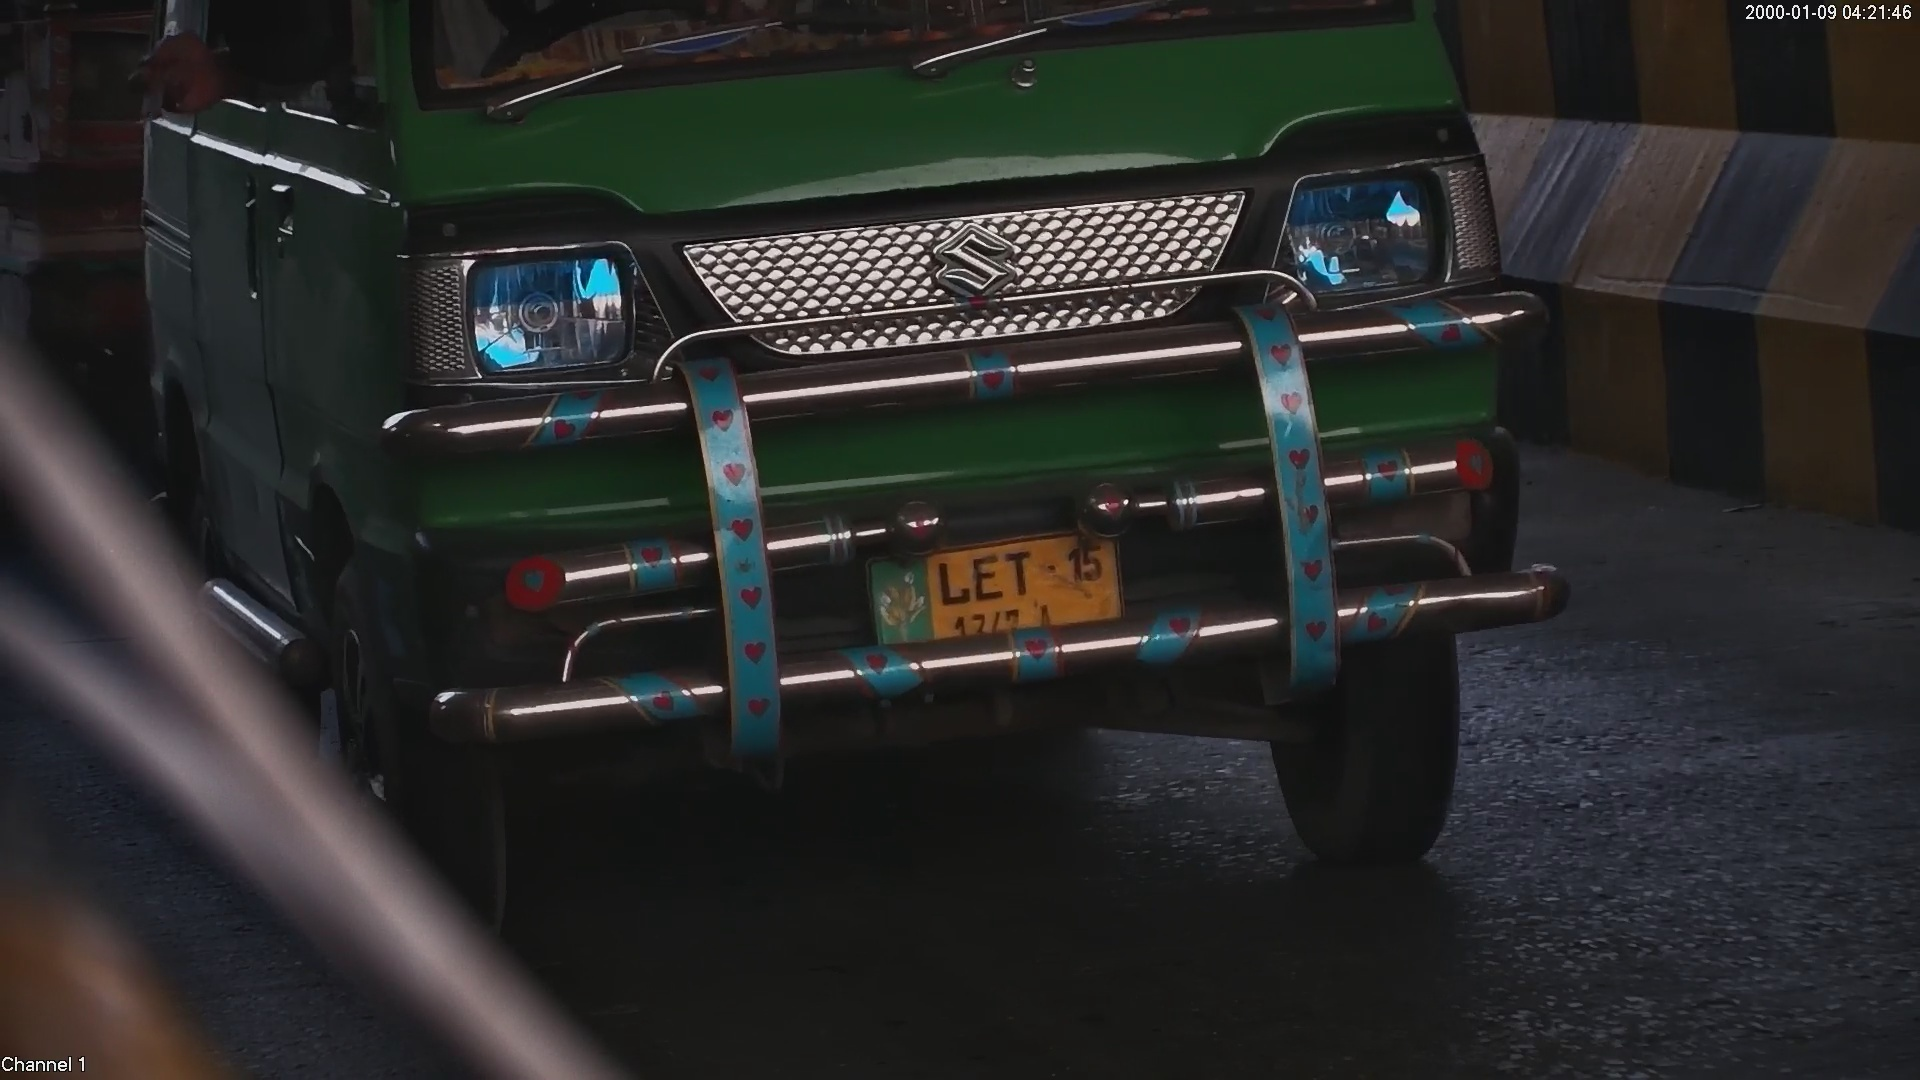Number_Plate: (834, 509, 1163, 681)
Undefined: (369, 209, 682, 394), (1256, 144, 1504, 318), (917, 190, 1037, 325)
